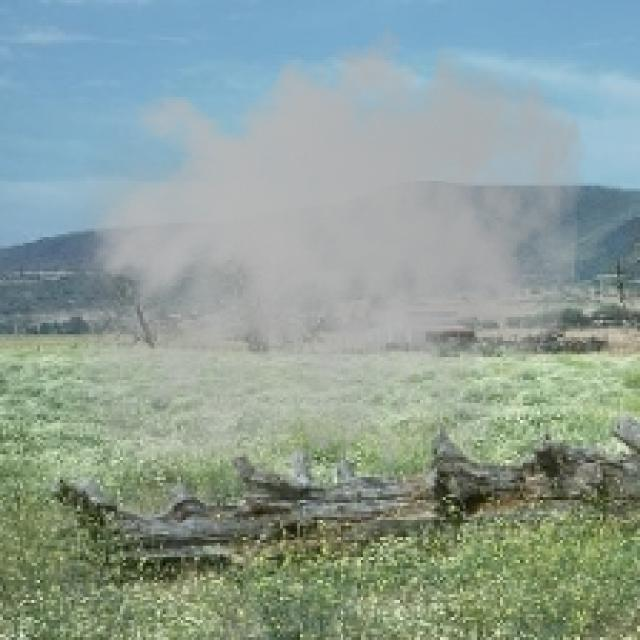smoke: (43, 9, 588, 534)
